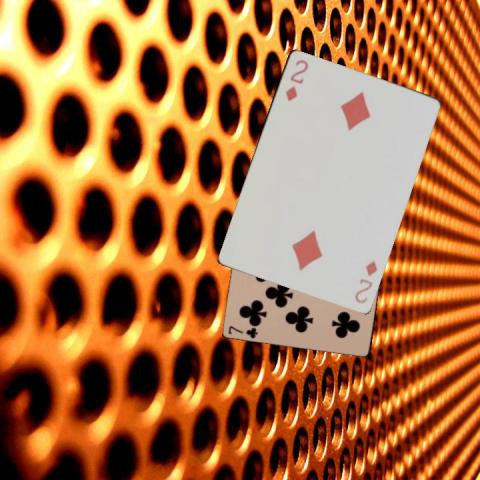2d: (351, 256, 379, 304), (282, 56, 310, 102)
7c: (226, 323, 260, 339)
